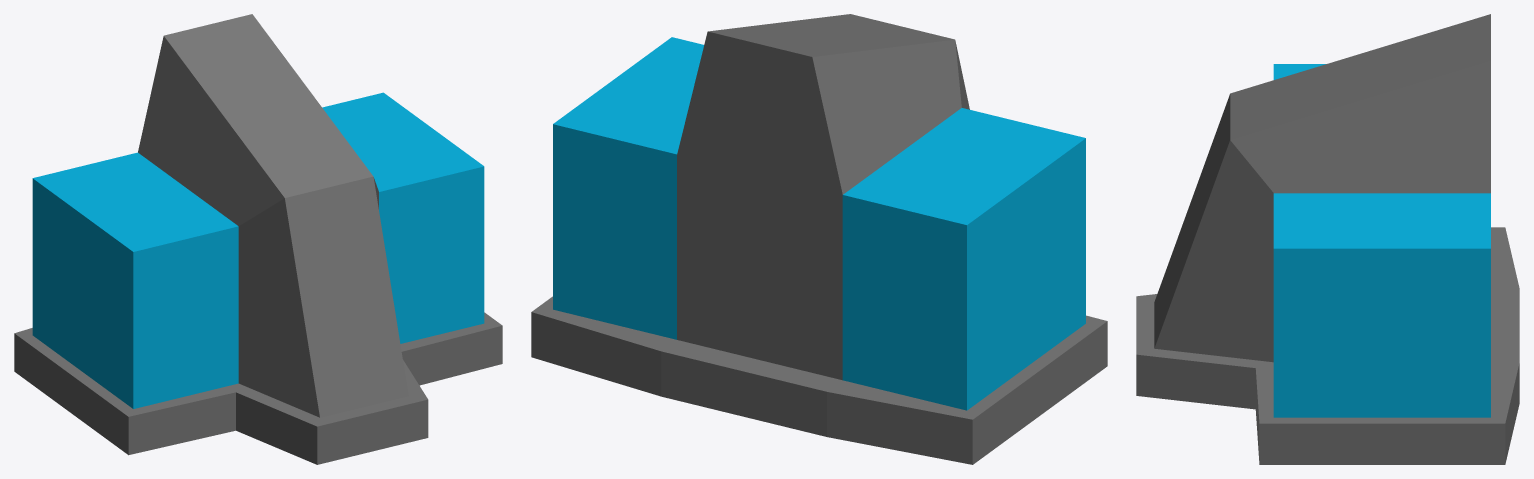
Rendered from _1Ship_PIece24.fbx.
3 views of the same model, side by side, from view 1: azimuth 30°, elevation 25°; view 2: azimuth 150°, elevation 25°; view 3: azimuth 270°, elevation 25° (orthographic). The views are drawn at different scales.
Visible parts, largest first — view 1: Ship_PIece24; view 2: Ship_PIece24; view 3: Ship_PIece24.
Boxes of the visible parts, x1,y1,x2,y2 form: Ship_PIece24: (14,14,502,464); Ship_PIece24: (531,14,1107,464); Ship_PIece24: (1136,14,1519,464).
Bounding box in the file's own units: 268 × 209 × 221.
